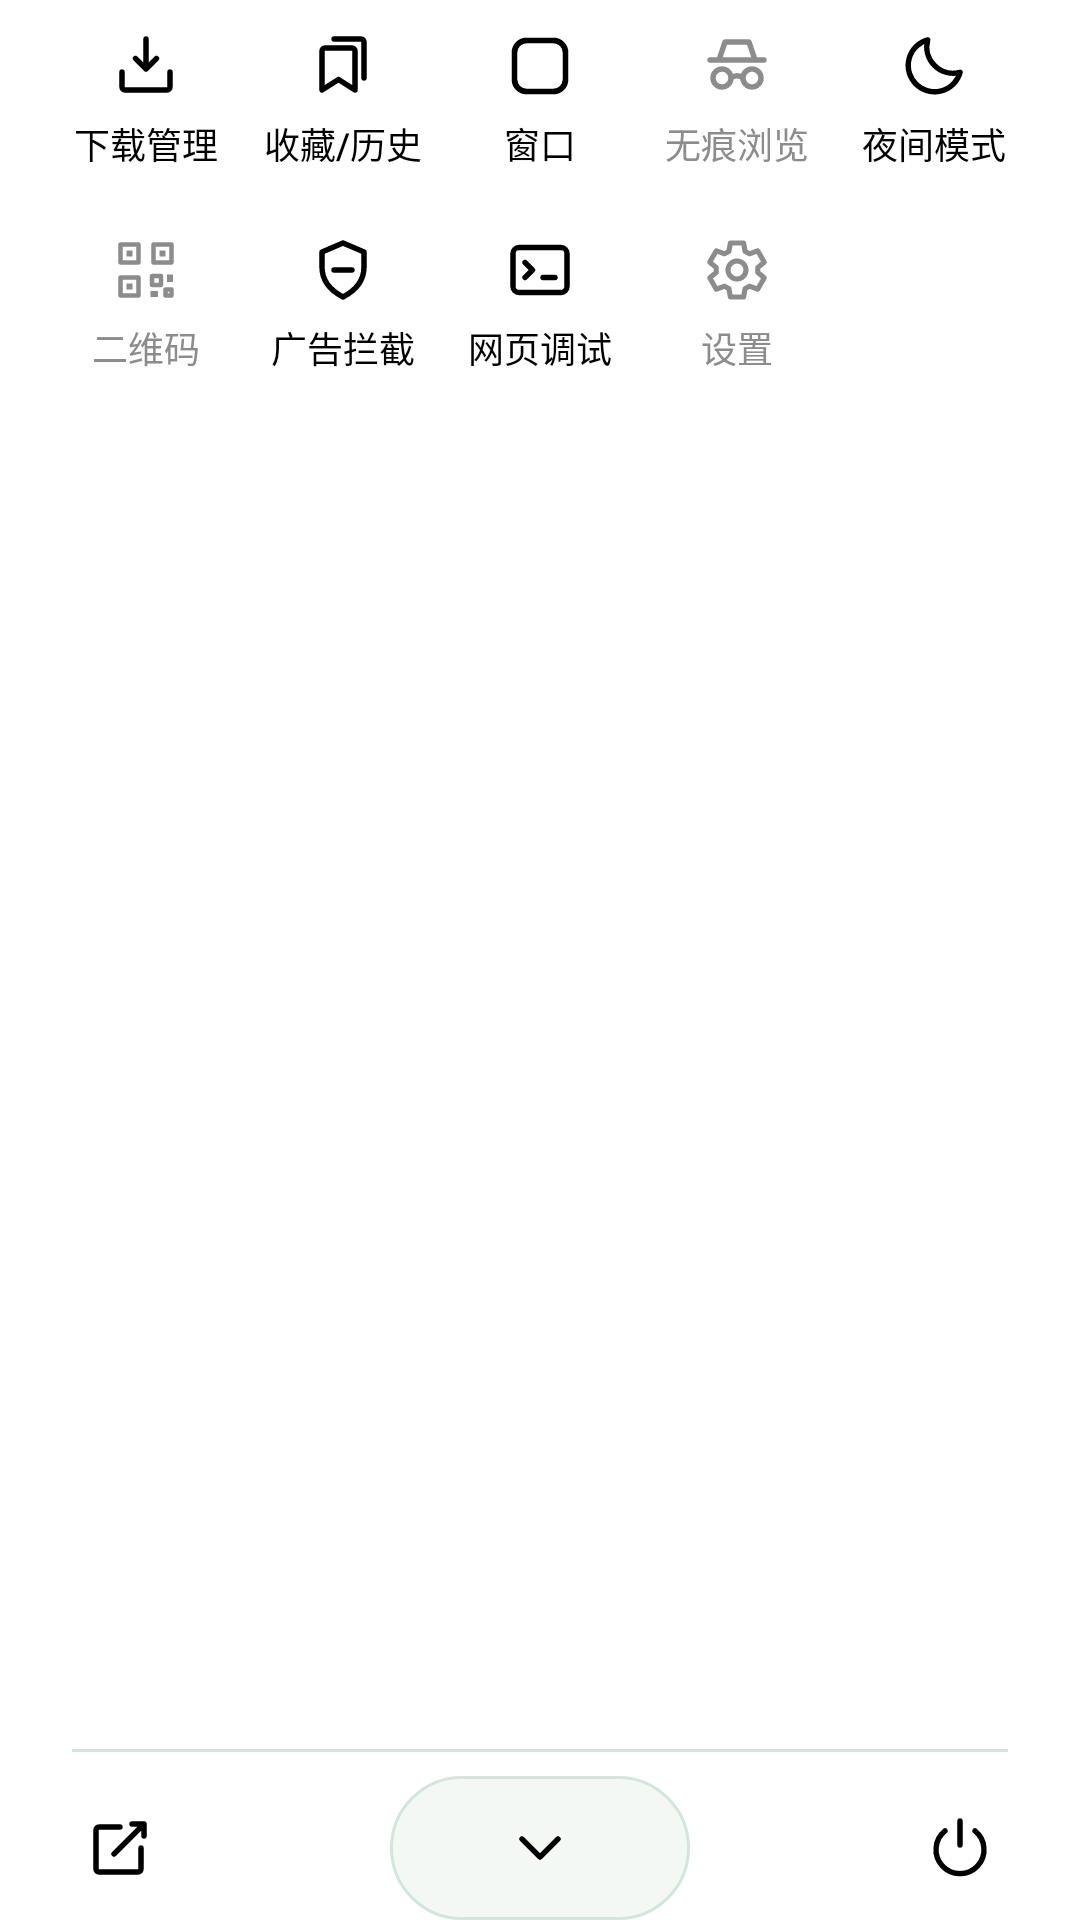

Point at icon controls on the screen. Image size 1080px x 1920px, points as [x,y].
分享网页: [120,1848]
收起菜单: [540,1848]
退出: [960,1847]
